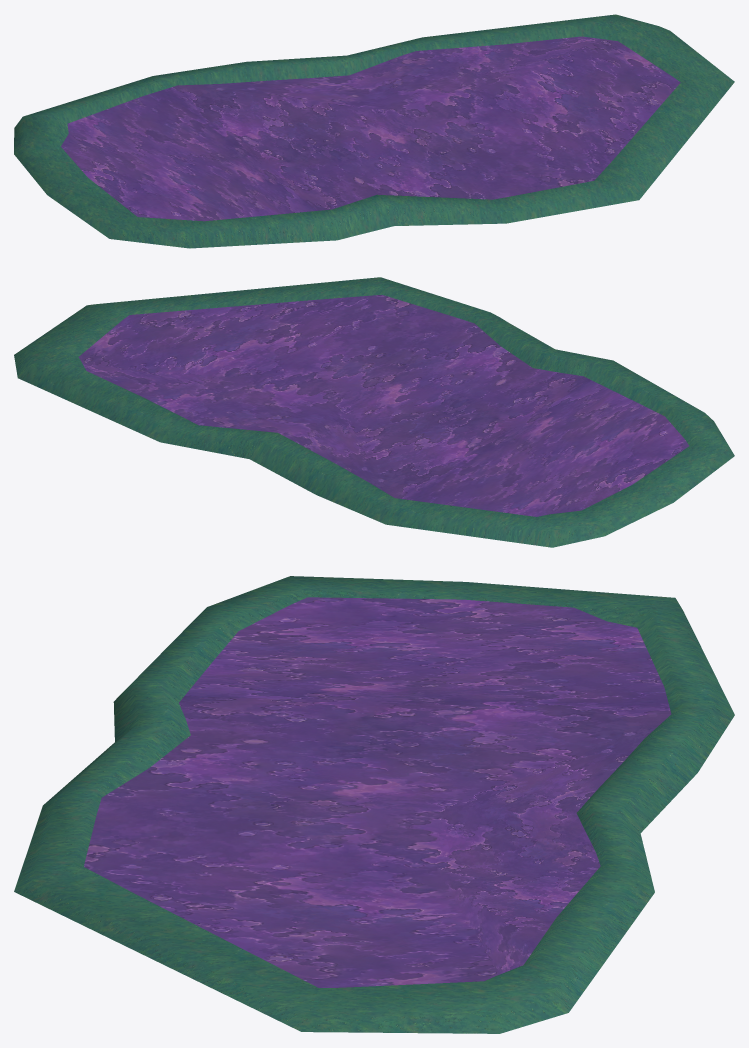
The model's file is WaterPool01.glb.
The picture shows the model from 3 angles, top to bottom: view 1: azimuth 30°, elevation 25°; view 2: azimuth 150°, elevation 25°; view 3: azimuth 270°, elevation 25°; orthographic projection. The views are drawn at different scales.
Visible parts, largest first — view 1: Waterpool01; view 2: Waterpool01; view 3: Waterpool01.
Boxes of the visible parts, <box> form: Waterpool01: <box>14,14,734,248</box>; Waterpool01: <box>14,277,734,547</box>; Waterpool01: <box>14,576,734,1033</box>.
Size of the model in its own units: 29.18 by 0.9325 by 19.69.
2 materials, 2 textured.
